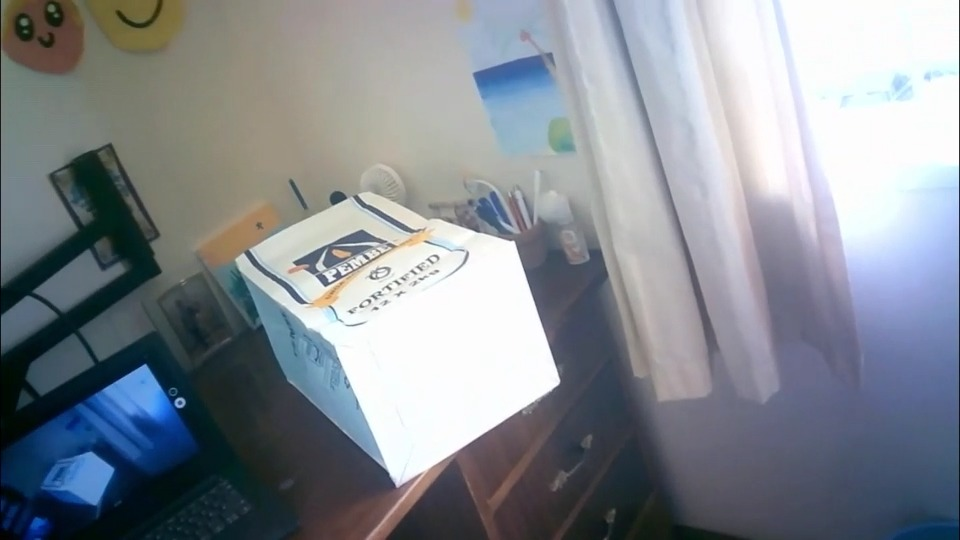wheat_flour_blue_label: (238, 188, 558, 483)
